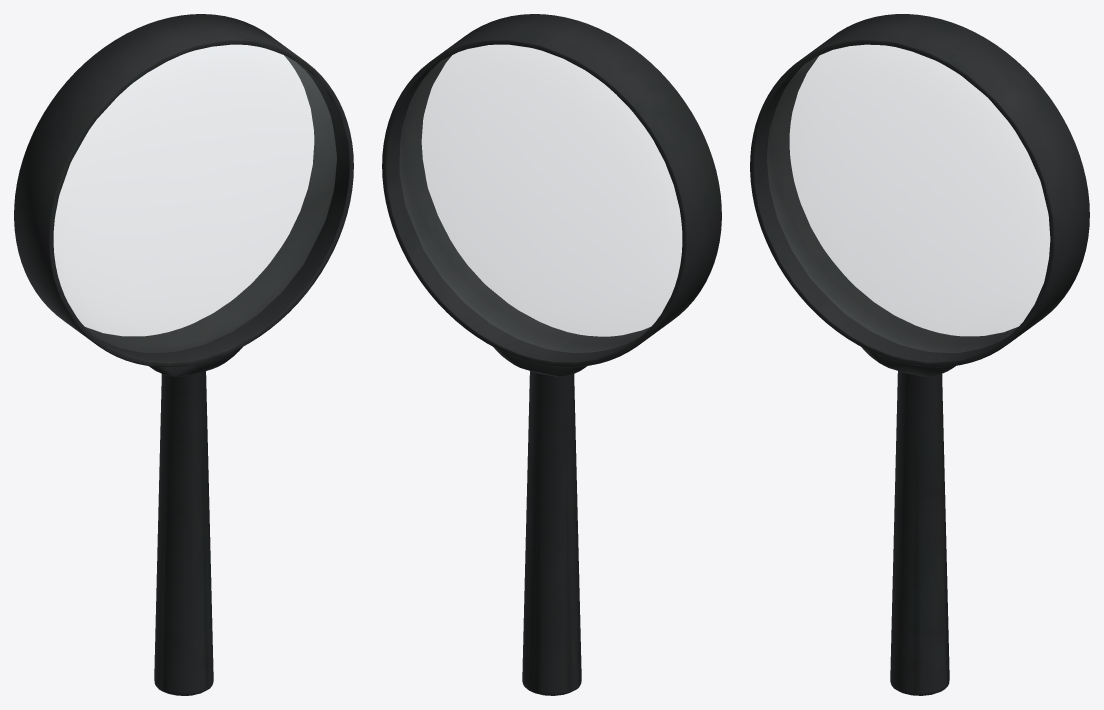
File: magnifier.glb
3 views of the same model, side by side, from view 1: azimuth 30°, elevation 25°; view 2: azimuth 150°, elevation 25°; view 3: azimuth 330°, elevation 25° (orthographic).
Visible parts, largest first — view 1: magnifying_glass_01; view 2: magnifying_glass_01; view 3: magnifying_glass_01.
Part boxes in pixels (left/top/right/bottom): magnifying_glass_01: left=14, top=14, right=353, bottom=695; magnifying_glass_01: left=382, top=14, right=721, bottom=695; magnifying_glass_01: left=750, top=14, right=1089, bottom=695.
Size of the model in its own units: 0.1321 by 0.2714 by 0.0267.
2 materials, 1 textured.
